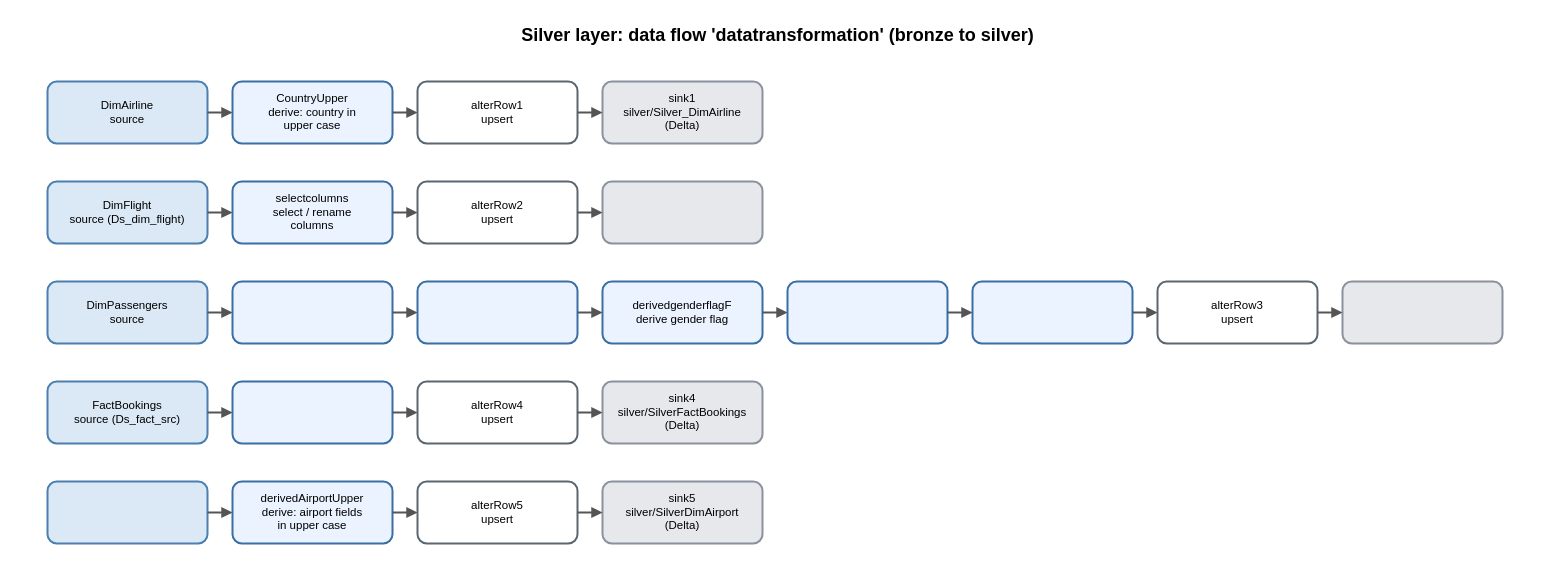
The diagram is 1554 pixels wide and 561 high, and some of its shapes have lost their labels. Each missing label, with the centre of its shape:
"castticketcost cast column types" belongs at point (312, 412).
"derivedFirstName derive first_name" belongs at point (1052, 312).
"derivedgenderflagM derive gender flag" belongs at point (497, 312).
"DimAirport source" belongs at point (127, 512).
"filtermorethan25 filter on age (over 25)" belongs at point (867, 312).
"select1 select / rename (gender to gender_Flag)" belongs at point (312, 312).
"sink2 silver/SilverDimFlight (Delta)" belongs at point (682, 212).
"sink3 SilverDimPassengers (silver, Delta)" belongs at point (1422, 312).
